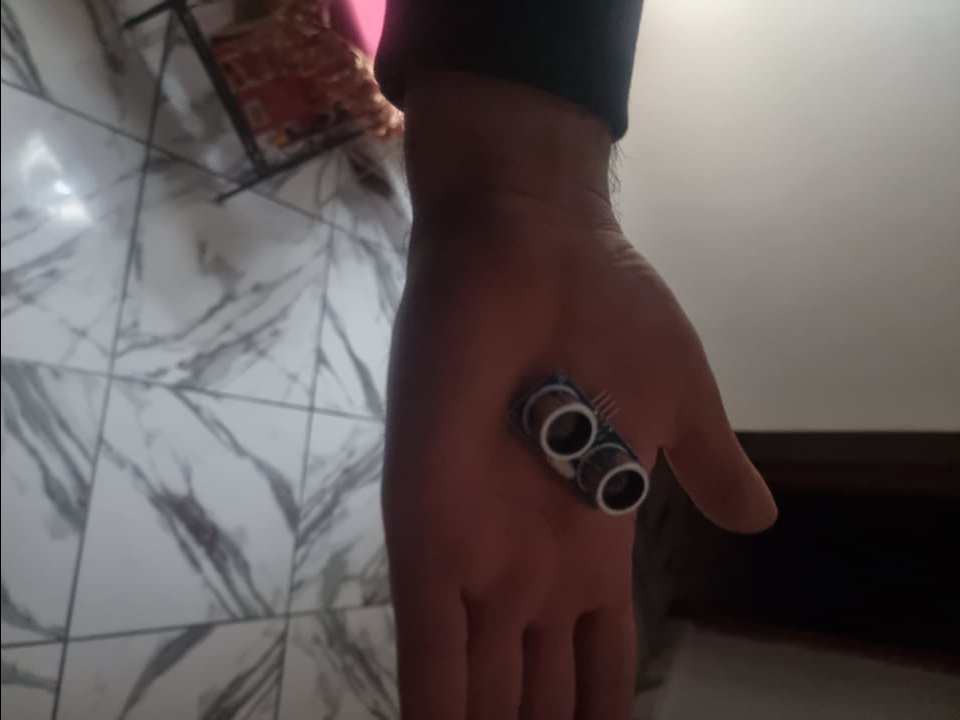SENSOR: (508, 374, 650, 519)
